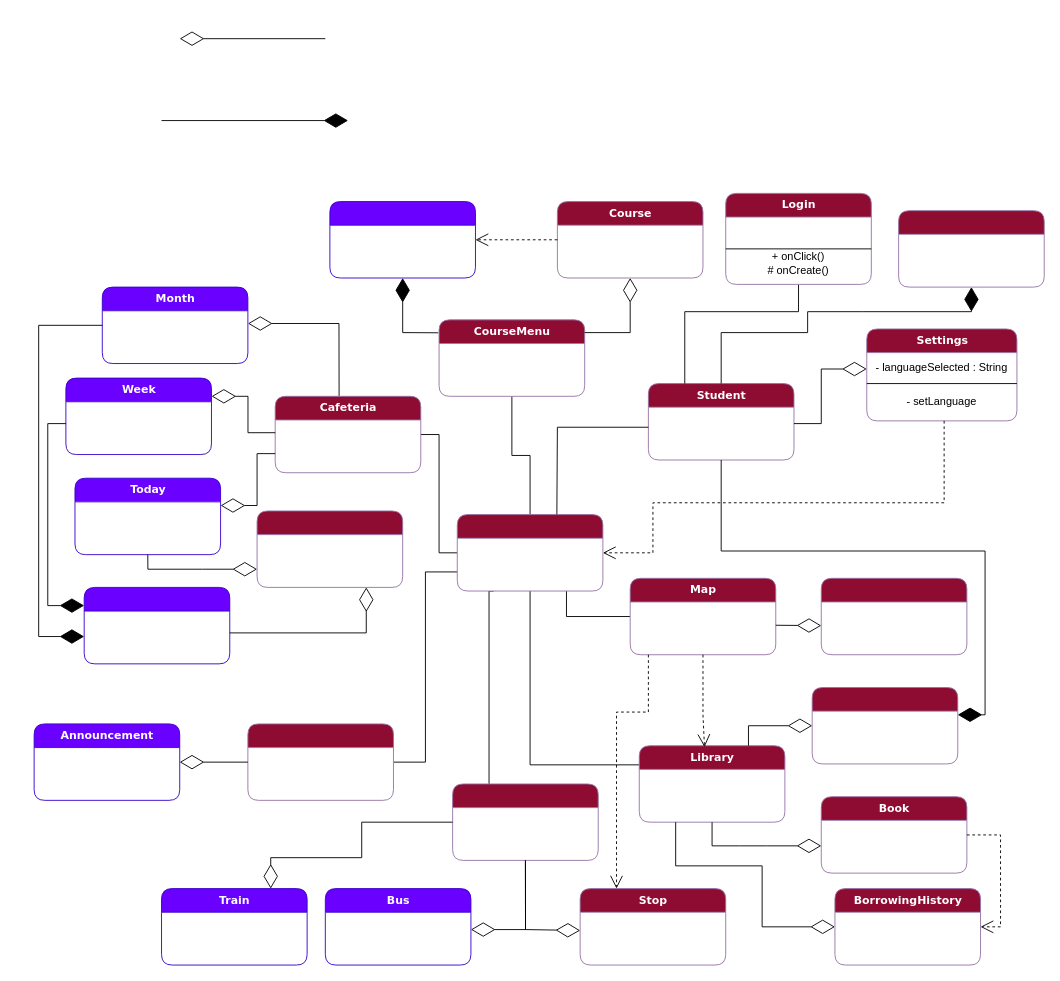
Image size: 1060x981. Some labels were removed from this diagram. The shapes that lost their labels are listed below. From the top down, each one's centre as x and y in pixels, then its label:
the point at 402,239: Calendar
the point at 971,248: Profile
the point at 329,548: Menu
the point at 529,552: MainMenu
the point at 156,625: Day
the point at 893,616: Building
the point at 884,725: MemberCard
the point at 320,761: News
the point at 525,821: Transportation
